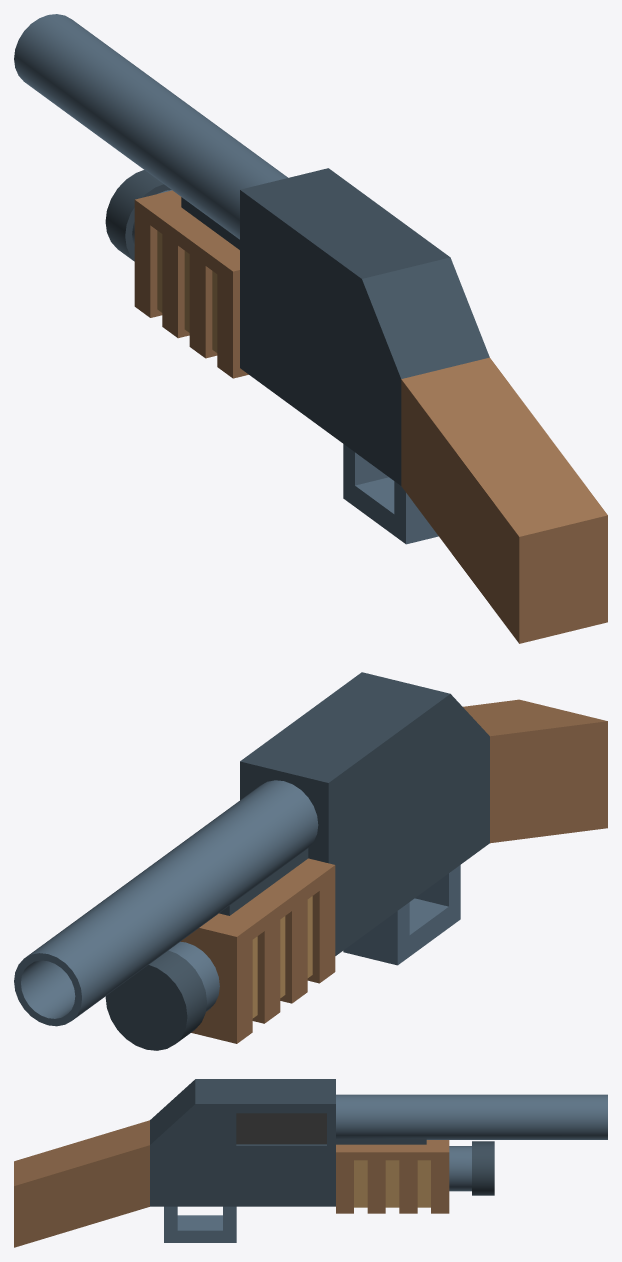
The model's file is shotgunShort.fbx.
3 views of the same model, one above another, from view 1: azimuth 30°, elevation 25°; view 2: azimuth 150°, elevation 25°; view 3: azimuth 270°, elevation 25° (orthographic). The views are drawn at different scales.
Visible parts, largest first — view 1: Group (×2); view 2: Group (×2); view 3: Group (×2).
Part boxes in pixels (x1,y1,x2,y2): Group (×2): (14, 14, 607, 643); Group (×2): (14, 672, 607, 1050); Group (×2): (14, 1079, 607, 1247).
Bounding box in the file's own units: 0.5742 × 1.34 × 5.01.
